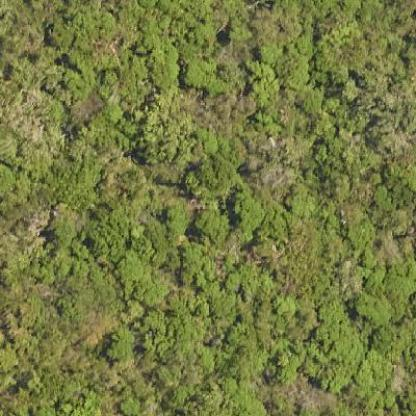tree-top: (134, 87, 197, 164), (182, 48, 231, 92), (242, 59, 285, 107), (229, 184, 266, 239), (190, 201, 233, 245), (45, 210, 83, 250), (102, 323, 138, 365), (354, 289, 393, 326)
